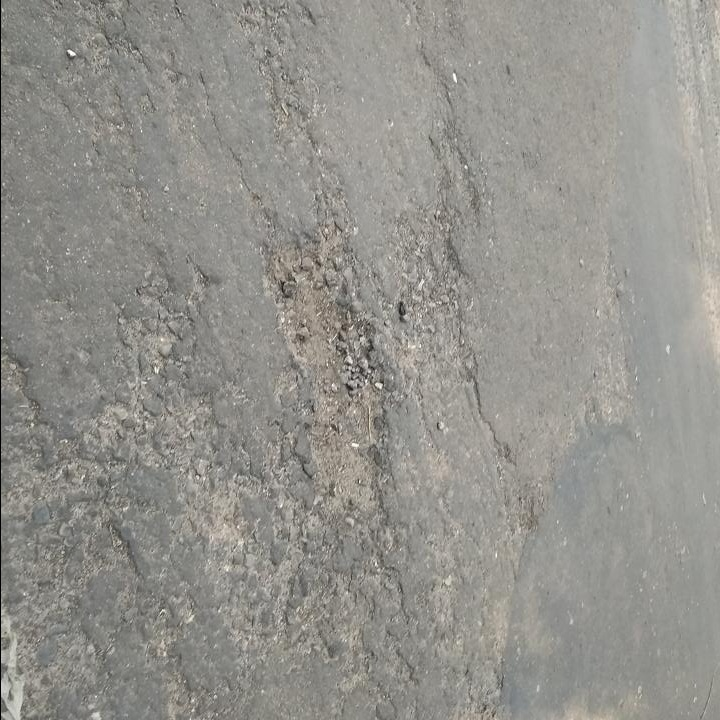pothole: (257, 234, 395, 526), (395, 236, 478, 378)
